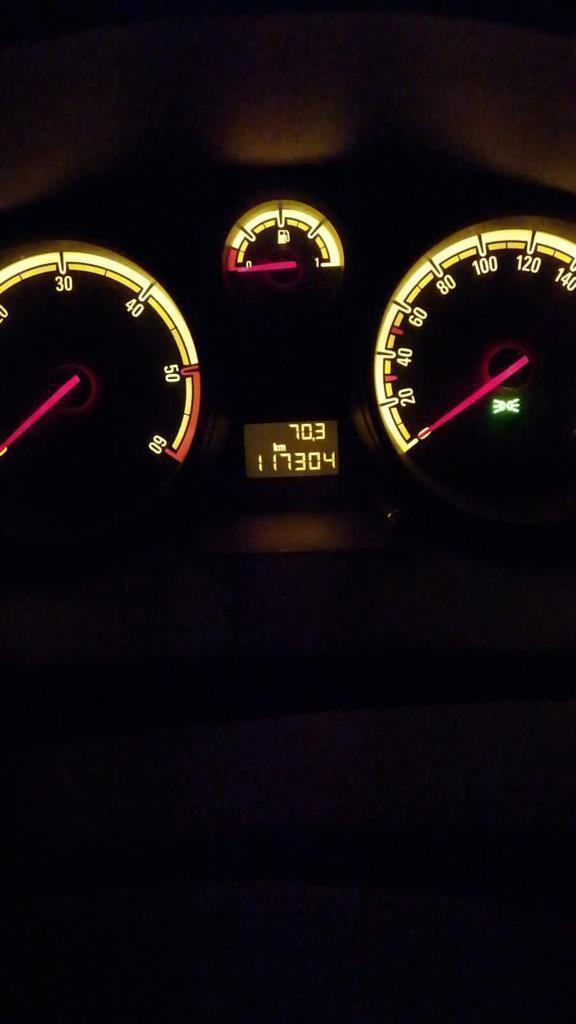0: (308, 451, 320, 470), (300, 422, 312, 440)
1: (271, 453, 277, 471), (258, 454, 262, 472)
3: (293, 451, 306, 471), (314, 422, 325, 439)
4: (322, 451, 335, 468)
7: (279, 452, 291, 470), (287, 423, 299, 440)
X: (272, 442, 278, 451), (279, 444, 286, 451), (312, 436, 315, 441)
odometer: (241, 418, 341, 480)
